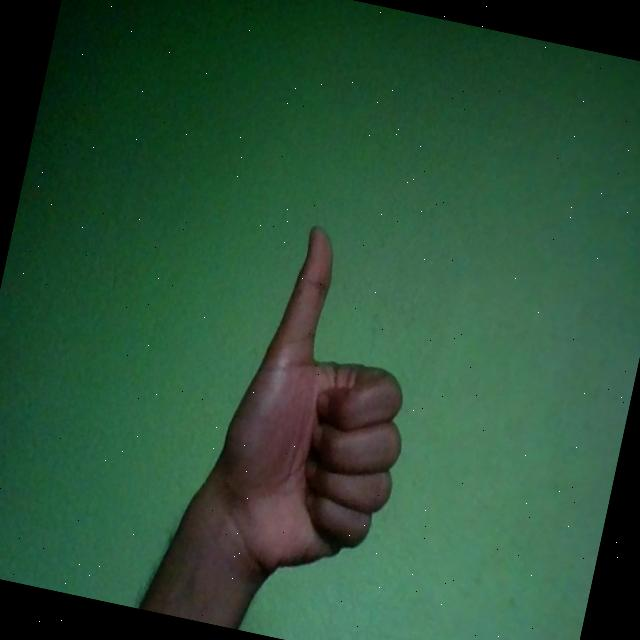Good Job: (198, 215, 442, 599)
